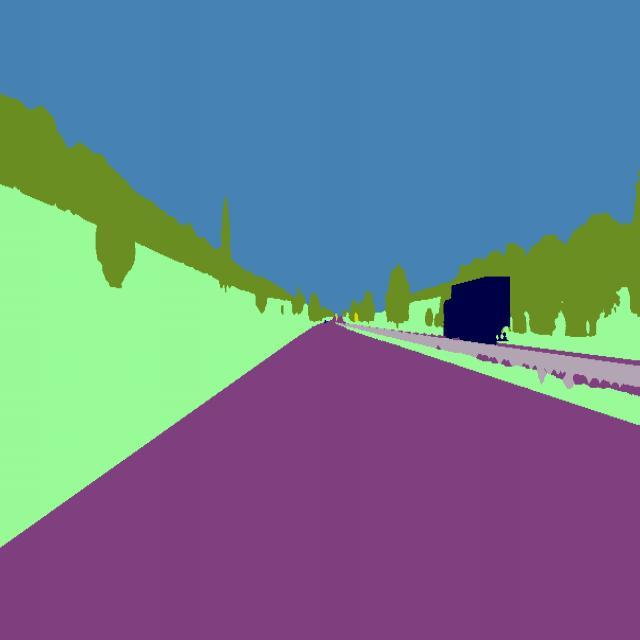safe: (437, 272, 514, 349)
